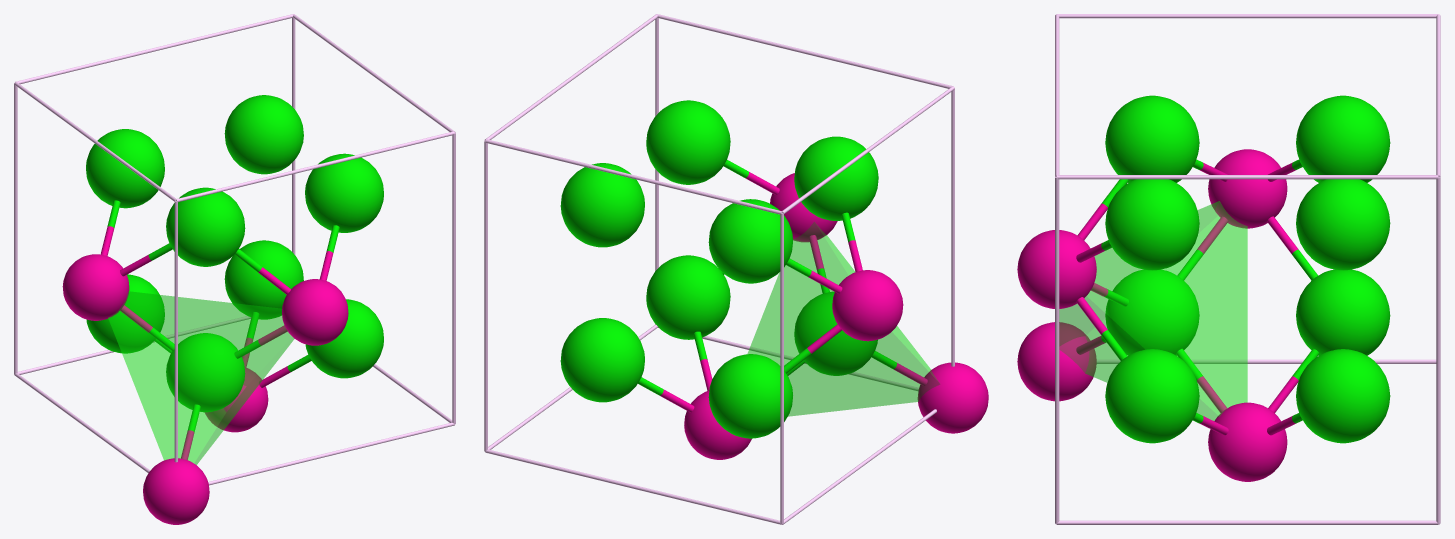
File: CaF2_conventional.glb
3 views of the same model, side by side, from view 1: azimuth 30°, elevation 25°; view 2: azimuth 150°, elevation 25°; view 3: azimuth 270°, elevation 25° (orthographic). The views are drawn at different scales.
Parts seen in each view (by area): view 1: F05_polyhedron, F12, F10, F05, F11, F09, F08, F06, Ca03, Ca01, Ca04, F07 (+13 smaller); view 2: F05_polyhedron, F10, F08, F06, F12, F07, F11, F09, Ca04, Ca01, F05, Ca02 (+12 smaller); view 3: F05_polyhedron, F06, F08, F12, F10, F07, F11, F09, F05, Ca02, Ca01, Ca03 (+15 smaller).
Boxes of the visible parts, x1,y1,x2,y2 form: F05_polyhedron: [108, 291, 294, 464]; F12: [224, 95, 303, 174]; F10: [305, 153, 383, 232]; F05: [166, 333, 245, 412]; F11: [86, 129, 164, 208]; F09: [166, 187, 245, 266]; F08: [224, 240, 303, 319]; F06: [305, 299, 383, 378]; Ca03: [282, 279, 348, 345]; Ca01: [143, 458, 209, 524]; Ca04: [62, 254, 129, 320]; F07: [86, 274, 164, 353]; F05_polyhedron: [747, 222, 939, 416]; F10: [646, 100, 730, 184]; F08: [560, 318, 644, 402]; F06: [646, 255, 730, 339]; F12: [560, 163, 644, 247]; F07: [708, 354, 792, 438]; F11: [708, 199, 792, 283]; F09: [794, 136, 878, 220]; Ca04: [832, 270, 903, 341]; Ca01: [917, 362, 988, 433]; F05: [794, 291, 877, 375]; Ca02: [684, 390, 751, 459]; F05_polyhedron: [1059, 201, 1247, 420]; F06: [1105, 349, 1199, 443]; F08: [1296, 349, 1390, 443]; F12: [1296, 179, 1390, 270]; F10: [1105, 179, 1199, 270]; F07: [1296, 269, 1390, 355]; F11: [1296, 95, 1390, 182]; F09: [1105, 95, 1199, 182]; F05: [1105, 269, 1199, 355]; Ca02: [1208, 402, 1287, 481]; Ca01: [1017, 322, 1096, 401]; Ca03: [1017, 230, 1096, 308].
Size of the model in its own units: 5.97 by 5.97 by 5.97.
